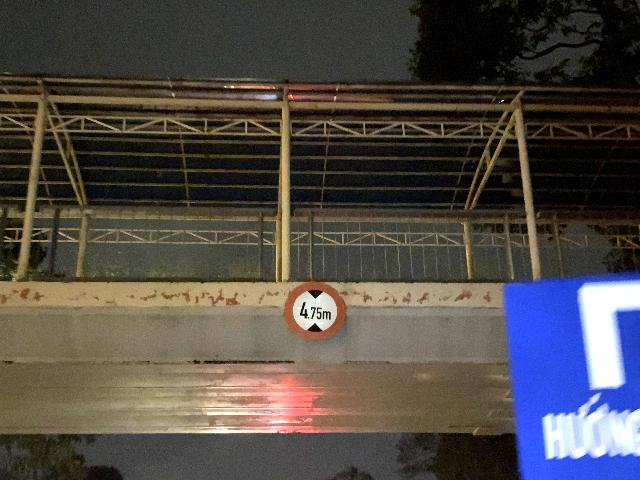han-che-chieu-cao: (284, 283, 345, 341)
